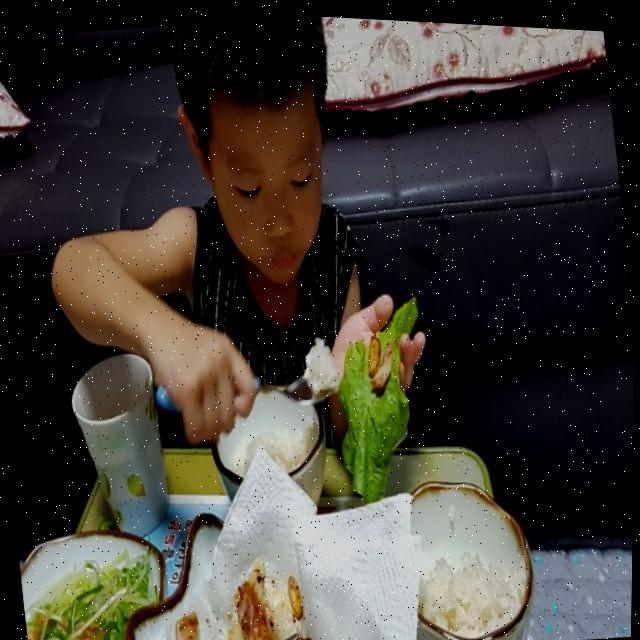eating-person: (7, 1, 461, 590)
